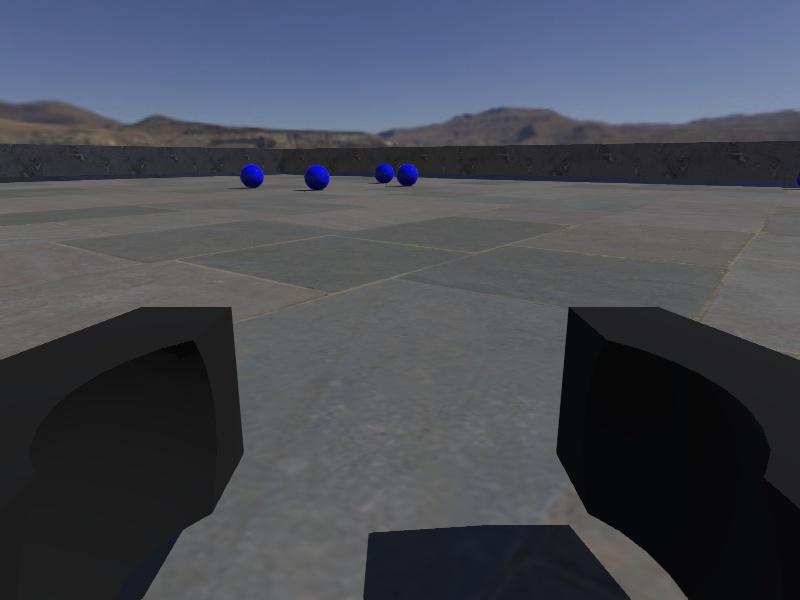blue ball: (303, 164, 330, 190), (239, 164, 264, 189), (395, 163, 418, 186), (374, 162, 395, 185)
